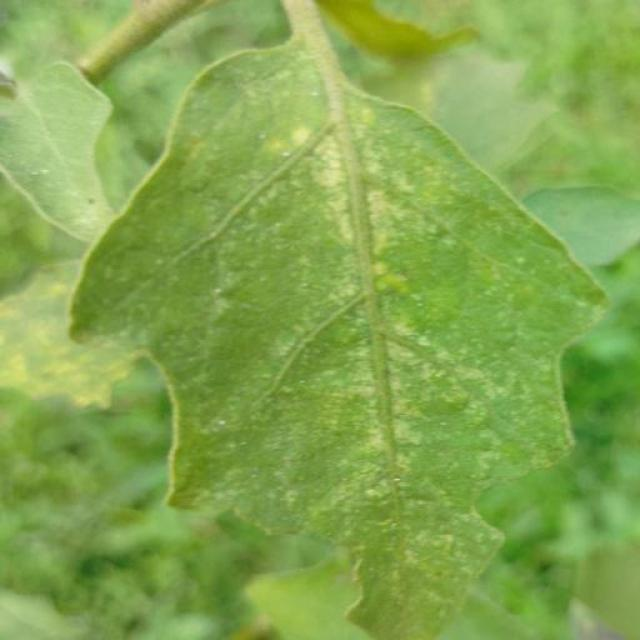leaf_spot: (147, 242, 386, 558), (289, 42, 437, 530), (399, 152, 529, 509), (258, 467, 492, 640), (152, 57, 347, 246), (0, 274, 163, 413), (307, 0, 488, 68), (142, 356, 214, 514), (243, 568, 336, 640), (250, 117, 324, 165)
